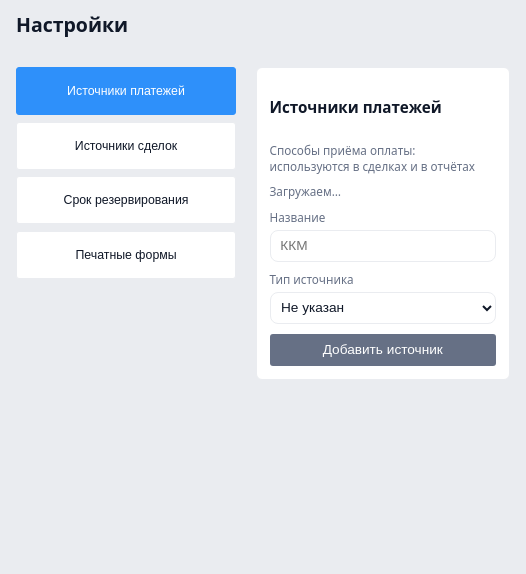
срок резервирования в настройках › показывает поставленный срок словами и пояснения ориентира
This screenshot has width=526, height=574.
What coordinates should you click on to do the following:
click the button "Срок резервирования"
I would click on:
 (126, 200)
Its box is left=16, top=176, right=236, bottom=224.
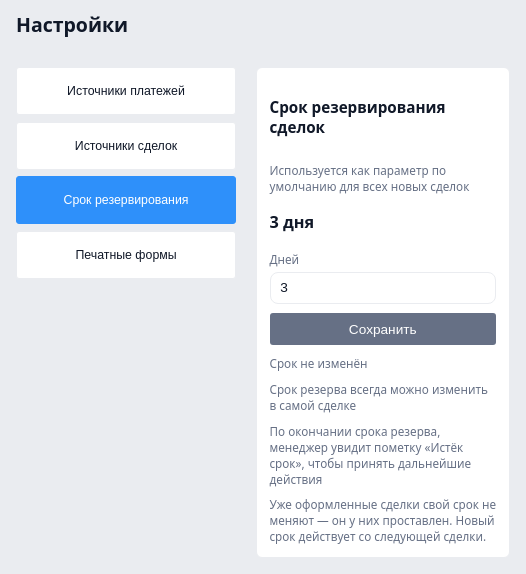
Result: the text "3 дня" is shown at left=270, top=211, right=314, bottom=233
Result: the heading "Срок резервирования сделок" is shown at left=270, top=96, right=446, bottom=136
Result: the text "Используется как параметр по умолчанию для всех новых сделок" is shown at left=270, top=162, right=496, bottom=194
